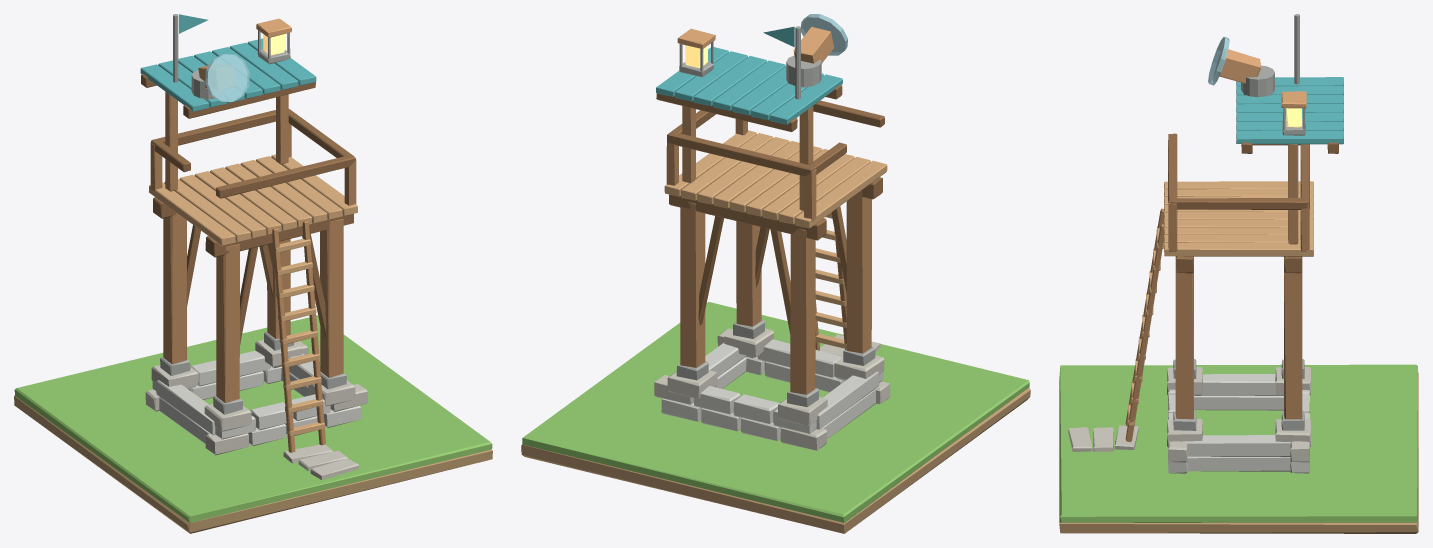
The model's file is tower_l03_active_LOD1.glb.
The picture shows the model from 3 angles, left to right: view 1: azimuth 30°, elevation 25°; view 2: azimuth 150°, elevation 25°; view 3: azimuth 270°, elevation 25°; orthographic projection. The views are drawn at different scales.
Parts seen in each view (by area): view 1: tower_l03_grass_tile_tower_l03_active_LOD1_tmp, tower_l03_earth_tile_tower_l03_active_LOD1_tmp, post_-0.61_-0.54_tower_l03_active_LOD1_tmp, post_-0.61_0.54_tower_l03_active_LOD1_tmp, post_0.61_-0.54_tower_l03_active_LOD1_tmp, telescope_lens_tower_l03_active_LOD1_tmp, balcony_rail_-0.66_tower_l03_active_LOD1_tmp, deck_board_0_tower_l03_active_LOD1_tmp, ladder_rail_-0.18_tower_l03_active_LOD1_tmp, stone_return_1_-0.72_tower_l03_active_LOD1_tmp, ladder_rail_0.18_tower_l03_active_LOD1_tmp, deck_bearer_-0.54_tower_l03_active_LOD1_tmp (+31 smaller); view 2: tower_l03_grass_tile_tower_l03_active_LOD1_tmp, tower_l03_earth_tile_tower_l03_active_LOD1_tmp, post_-0.61_0.54_tower_l03_active_LOD1_tmp, post_-0.61_-0.54_tower_l03_active_LOD1_tmp, post_0.61_0.54_tower_l03_active_LOD1_tmp, post_0.61_-0.54_tower_l03_active_LOD1_tmp, balcony_rail_0.66_tower_l03_active_LOD1_tmp, deck_bearer_0.54_tower_l03_active_LOD1_tmp, deck_board_0_tower_l03_active_LOD1_tmp, stone_return_1_-0.72_tower_l03_active_LOD1_tmp, canopy_board_0_tower_l03_active_LOD1_tmp, deck_board_6_tower_l03_active_LOD1_tmp (+37 smaller); view 3: tower_l03_grass_tile_tower_l03_active_LOD1_tmp, tower_l03_earth_tile_tower_l03_active_LOD1_tmp, post_0.61_0.54_tower_l03_active_LOD1_tmp, post_0.61_-0.54_tower_l03_active_LOD1_tmp, stone_return_1_0.72_tower_l03_active_LOD1_tmp, deck_board_8_tower_l03_active_LOD1_tmp, stone_return_1_-0.72_tower_l03_active_LOD1_tmp, balcony_side_rail_tower_l03_active_LOD1_tmp, stone_return_0_0.72_tower_l03_active_LOD1_tmp, canopy_board_6_tower_l03_active_LOD1_tmp, ladder_rail_0.18_tower_l03_active_LOD1_tmp, stone_return_0_-0.72_tower_l03_active_LOD1_tmp (+27 smaller).
Part boxes in pixels (x1,y1,x2,y2): tower_l03_grass_tile_tower_l03_active_LOD1_tmp: (14, 315, 492, 522); tower_l03_earth_tile_tower_l03_active_LOD1_tmp: (14, 395, 492, 533); post_-0.61_-0.54_tower_l03_active_LOD1_tmp: (216, 244, 239, 403); post_-0.61_0.54_tower_l03_active_LOD1_tmp: (163, 213, 186, 364); post_0.61_-0.54_tower_l03_active_LOD1_tmp: (320, 219, 343, 377); telescope_lens_tower_l03_active_LOD1_tmp: (205, 54, 249, 101); balcony_rail_-0.66_tower_l03_active_LOD1_tmp: (215, 156, 355, 198); deck_board_0_tower_l03_active_LOD1_tmp: (149, 182, 235, 245); ladder_rail_-0.18_tower_l03_active_LOD1_tmp: (272, 228, 295, 452); stone_return_1_-0.72_tower_l03_active_LOD1_tmp: (156, 380, 215, 434); ladder_rail_0.18_tower_l03_active_LOD1_tmp: (302, 220, 325, 445); deck_bearer_-0.54_tower_l03_active_LOD1_tmp: (205, 214, 353, 257); tower_l03_grass_tile_tower_l03_active_LOD1_tmp: (522, 302, 1029, 523); tower_l03_earth_tile_tower_l03_active_LOD1_tmp: (521, 387, 1030, 533); post_-0.61_0.54_tower_l03_active_LOD1_tmp: (790, 228, 815, 394); post_-0.61_-0.54_tower_l03_active_LOD1_tmp: (846, 190, 871, 353); post_0.61_0.54_tower_l03_active_LOD1_tmp: (680, 201, 705, 367); post_0.61_-0.54_tower_l03_active_LOD1_tmp: (736, 221, 761, 326); balcony_rail_0.66_tower_l03_active_LOD1_tmp: (667, 131, 815, 176); deck_bearer_0.54_tower_l03_active_LOD1_tmp: (669, 194, 826, 240); deck_board_0_tower_l03_active_LOD1_tmp: (795, 160, 887, 228); stone_return_1_-0.72_tower_l03_active_LOD1_tmp: (816, 371, 879, 429); canopy_board_0_tower_l03_active_LOD1_tmp: (769, 74, 842, 124); deck_board_6_tower_l03_active_LOD1_tmp: (697, 137, 789, 204); tower_l03_grass_tile_tower_l03_active_LOD1_tmp: (1060, 364, 1417, 522); tower_l03_earth_tile_tower_l03_active_LOD1_tmp: (1059, 372, 1418, 533); post_0.61_0.54_tower_l03_active_LOD1_tmp: (1284, 257, 1302, 419); post_0.61_-0.54_tower_l03_active_LOD1_tmp: (1175, 257, 1193, 419); stone_return_1_0.72_tower_l03_active_LOD1_tmp: (1182, 435, 1290, 456); deck_board_8_tower_l03_active_LOD1_tmp: (1164, 242, 1313, 256); stone_return_1_-0.72_tower_l03_active_LOD1_tmp: (1201, 374, 1283, 395); balcony_side_rail_tower_l03_active_LOD1_tmp: (1170, 198, 1307, 209); stone_return_0_0.72_tower_l03_active_LOD1_tmp: (1187, 456, 1290, 471); canopy_board_6_tower_l03_active_LOD1_tmp: (1236, 130, 1343, 144); ladder_rail_0.18_tower_l03_active_LOD1_tmp: (1125, 224, 1163, 442); stone_return_0_-0.72_tower_l03_active_LOD1_tmp: (1194, 395, 1283, 410).
Bounding box in the file's own units: 3.6 × 4.61 × 3.58.
